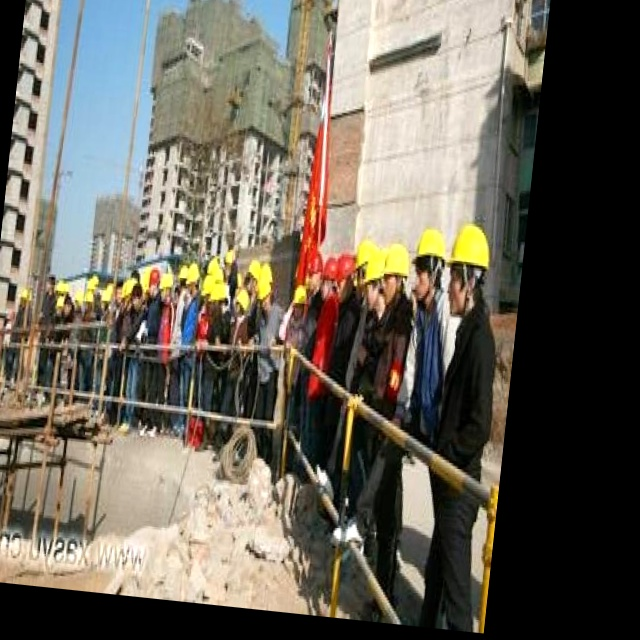Con_Casco: (444, 221, 494, 318), (410, 225, 449, 301)
